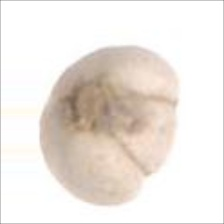L5: (113, 88, 179, 181), (64, 72, 122, 135)
L6: (37, 44, 183, 209)
